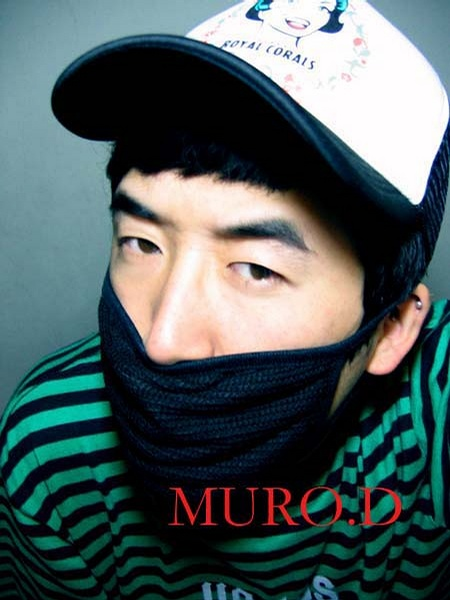face_mask: (106, 121, 369, 470)
